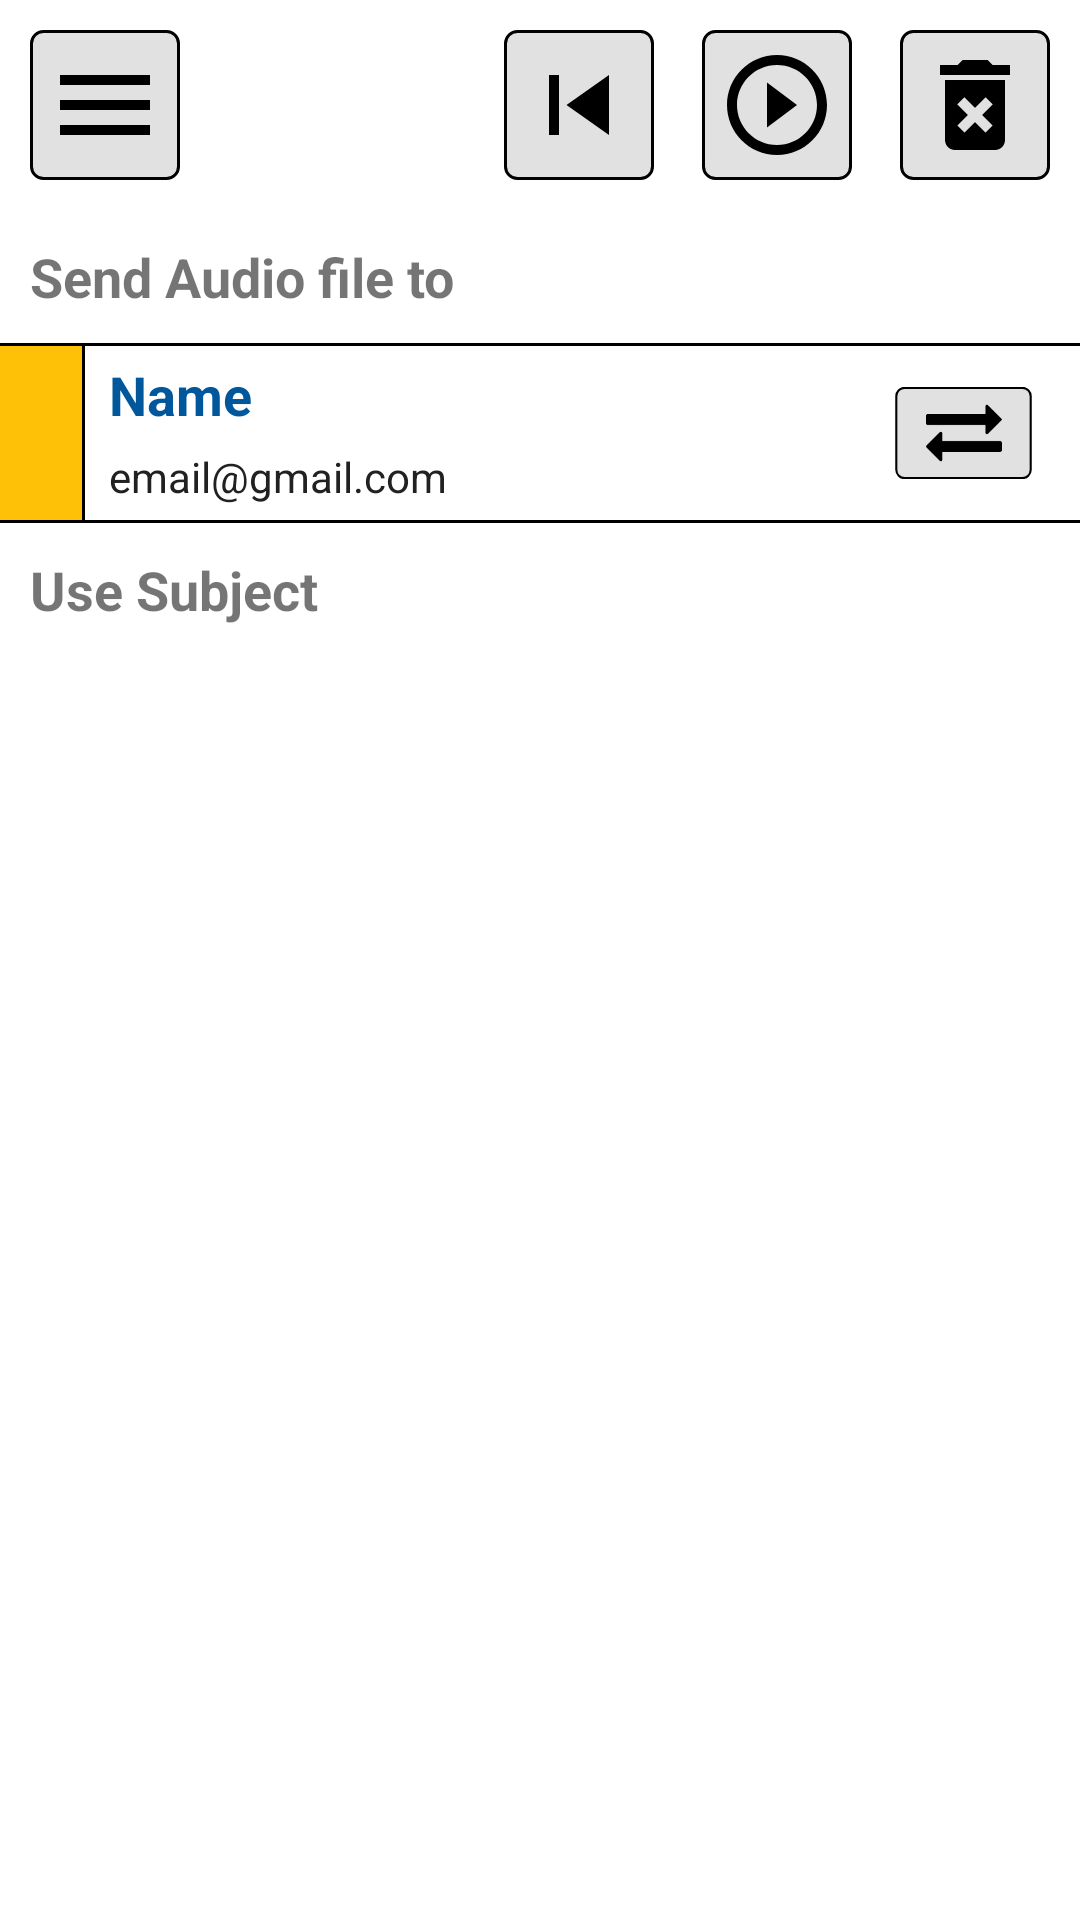

Icons on this 1080*1920 Android screen, each with the point to tap as point (x, y):
delete forever: point (975, 105)
menu: point (105, 105)
play circle: point (777, 105)
skip previous: point (579, 105)
